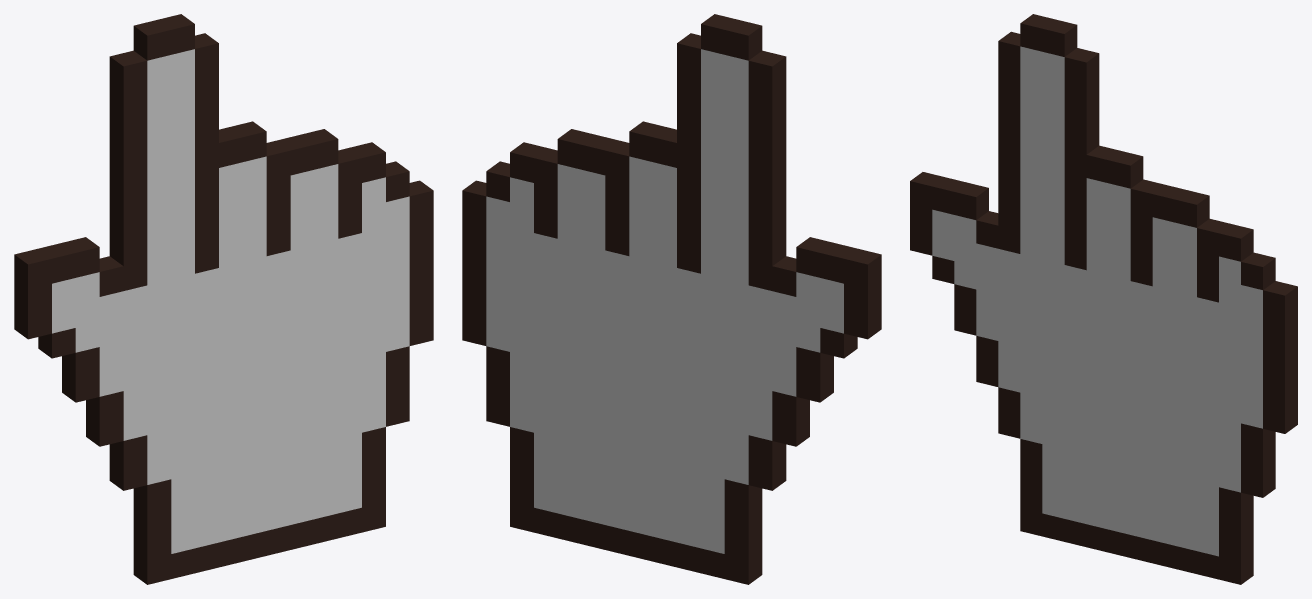
Rendered from cursor.glb.
The picture shows the model from 3 angles, left to right: view 1: azimuth 30°, elevation 25°; view 2: azimuth 150°, elevation 25°; view 3: azimuth 330°, elevation 25°; orthographic projection. The views are drawn at different scales.
Parts seen in each view (by area): view 1: Object_2, Object_3; view 2: Object_2, Object_3; view 3: Object_2, Object_3.
Boxes of the visible parts, x1=… form: Object_2: x1=52, y1=49, x2=409, y2=553; Object_3: x1=14, y1=14, x2=433, y2=584; Object_2: x1=486, y1=49, x2=843, y2=553; Object_3: x1=462, y1=14, x2=881, y2=584; Object_2: x1=932, y1=46, x2=1262, y2=556; Object_3: x1=910, y1=14, x2=1297, y2=584.
Size of the model in its own units: 9.36 by 12.11 by 0.5506.
